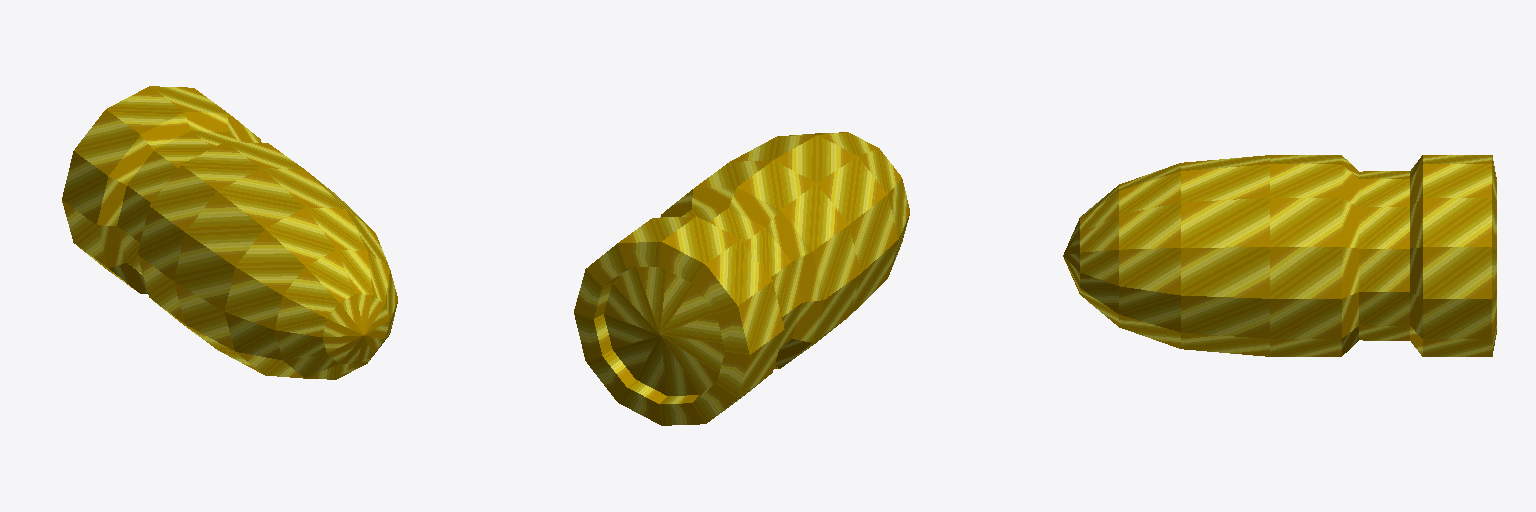
3 renders of one model, left to right at view 1: azimuth 30°, elevation 25°; view 2: azimuth 150°, elevation 25°; view 3: azimuth 270°, elevation 25°, orthographic.
Parts seen in each view (by area): view 1: polygon1, polygon0; view 2: polygon0, polygon1; view 3: polygon0, polygon1.
Boxes of the visible parts, <box> form: polygon1: <box>174,168,397,379</box>; polygon0: <box>62,86,304,345</box>; polygon0: <box>574,160,860,425</box>; polygon1: <box>730,132,909,314</box>; polygon0: <box>1270,155,1496,356</box>; polygon1: <box>1063,155,1269,356</box>.
Bounding box in the file's own units: 7.23 × 7.23 × 15.43.
Materials: 2 (1 with a texture image).